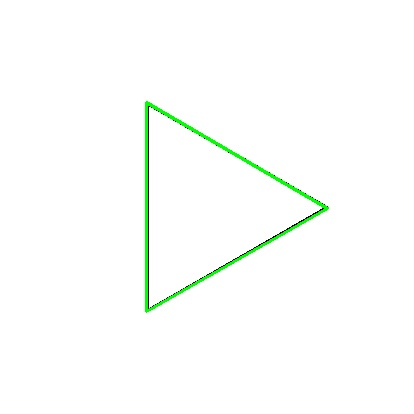line_segment: (145, 102, 328, 312)
